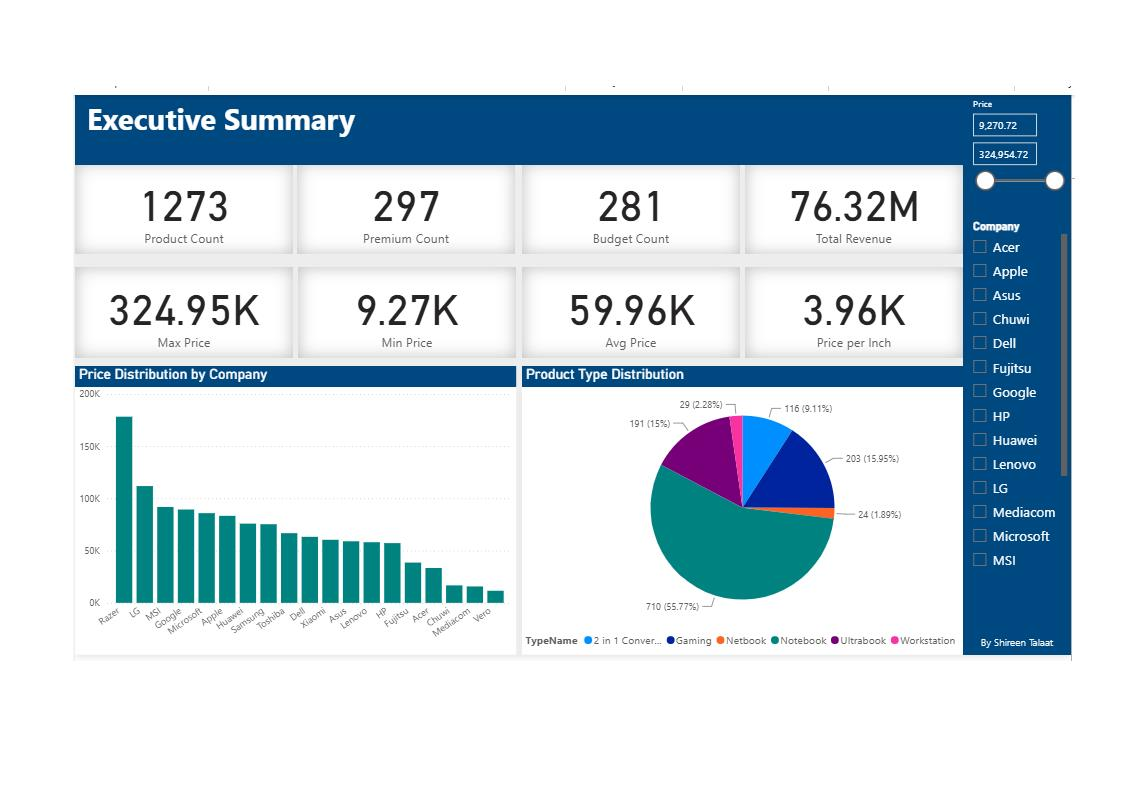

What the dashboard file says about the page in this screenshot:
{"tool":"powerbi","page":{"name":"Page 1","canvas":[1280,720],"ordinal":0},"visuals":[{"type":"card","fields":{"Values":["All Measures.Product Count"]},"box":[0,87.4,280.2,116.9],"z":0},{"type":"card","fields":{"Values":["All Measures.Premium Count"]},"box":[285.3,87.4,280.2,116.9],"z":1000},{"type":"card","fields":{"Values":["All Measures.Budget Count"]},"box":[574.5,87.4,280.2,116.9],"z":2000},{"type":"card","fields":{"Values":["All Measures.Total Revenue"]},"box":[861,87.4,280.2,116.9],"z":3000},{"type":"card","fields":{"Values":["All Measures.Max Price"]},"box":[0,221,280.2,116.9],"z":4000},{"type":"card","fields":{"Values":["All Measures.Min Price"]},"box":[287,221,280.2,116.9],"z":5000},{"type":"card","fields":{"Values":["All Measures.Avg Price"]},"box":[574,221,280.2,116.9],"z":6000},{"type":"card","fields":{"Values":["All Measures.Price per Inch"]},"box":[861,221,280.2,116.9],"z":7000},{"type":"clusteredColumnChart","title":"Price Distribution by Company","fields":{"Category":["Electronics.Company"],"Y":["All Measures.Avg Price"]},"box":[0,348.3,566.7,371.4],"z":8000},{"type":"pieChart","title":"Product Type Distribution ","fields":{"Y":["All Measures.Product Count"],"Series":["Electronics.TypeName"]},"box":[574.5,348.3,566.7,371.4],"z":9000},{"type":"shape","box":[0,0,1280,90],"z":10000},{"type":"shape","box":[1141.2,0,138.8,719.7],"z":11000},{"type":"textbox","box":[0,0,399.7,90],"z":12000},{"type":"textbox","box":[1141.2,688.8,138.8,30.8],"z":13000},{"type":"slicer","fields":{"Values":["Electronics.Price"]},"box":[1141.2,0,138.8,155.5],"z":14000},{"type":"slicer","fields":{"Values":["Electronics.Company"]},"box":[1141.2,155.5,138.8,456.2],"z":15000}]}

Visuals, with their boxes on the page's 1280x720 design canvas (x1, y1, x2, y2). These are canvas units, not pixel positions in the 1122x793 screenshot, which may show the page scaled, cropped or inside an application window:
card - All Measures.Product Count: rect(0, 87, 280, 204)
card - All Measures.Premium Count: rect(285, 87, 566, 204)
card - All Measures.Budget Count: rect(574, 87, 855, 204)
card - All Measures.Total Revenue: rect(861, 87, 1141, 204)
card - All Measures.Max Price: rect(0, 221, 280, 338)
card - All Measures.Min Price: rect(287, 221, 567, 338)
card - All Measures.Avg Price: rect(574, 221, 854, 338)
card - All Measures.Price per Inch: rect(861, 221, 1141, 338)
"Price Distribution by Company" clusteredColumnChart: rect(0, 348, 567, 720)
"Product Type Distribution " pieChart: rect(574, 348, 1141, 720)
shape: rect(0, 0, 1280, 90)
shape: rect(1141, 0, 1280, 720)
textbox: rect(0, 0, 400, 90)
textbox: rect(1141, 689, 1280, 720)
slicer - Electronics.Price: rect(1141, 0, 1280, 156)
slicer - Electronics.Company: rect(1141, 156, 1280, 612)
